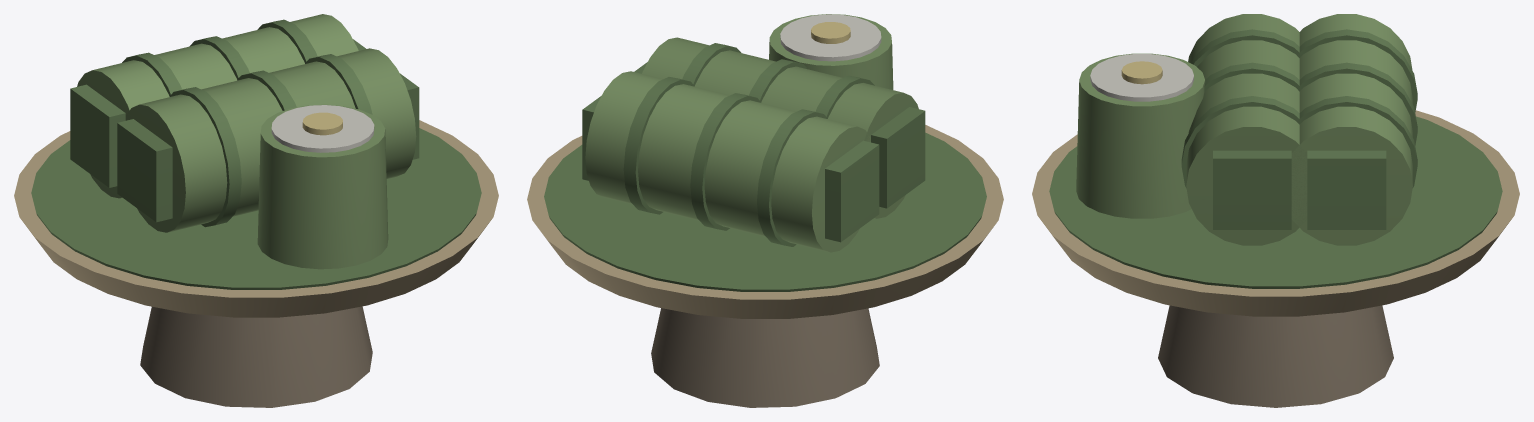
Rendered from ansom.glb.
3 renders of one model, left to right at view 1: azimuth 30°, elevation 25°; view 2: azimuth 150°, elevation 25°; view 3: azimuth 270°, elevation 25°, orthographic. The views are drawn at different scales.
Bounding box in the file's own units: 3.08 × 2.05 × 3.1.
